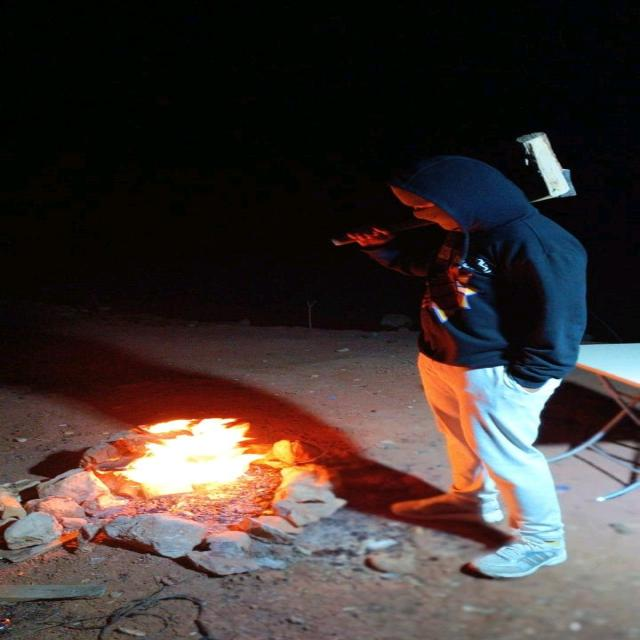fire: (121, 419, 264, 496)
